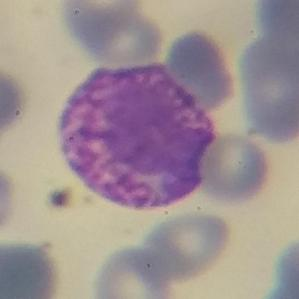Basophil: (50, 56, 219, 222)
Platelets: (46, 186, 74, 212)
RBC: (235, 26, 299, 147), (139, 207, 235, 282), (161, 26, 242, 113), (68, 4, 166, 68), (197, 129, 275, 207), (89, 243, 177, 299), (0, 239, 63, 299), (58, 0, 144, 41), (0, 65, 32, 146), (251, 0, 299, 48), (265, 234, 299, 299), (0, 160, 19, 240)
